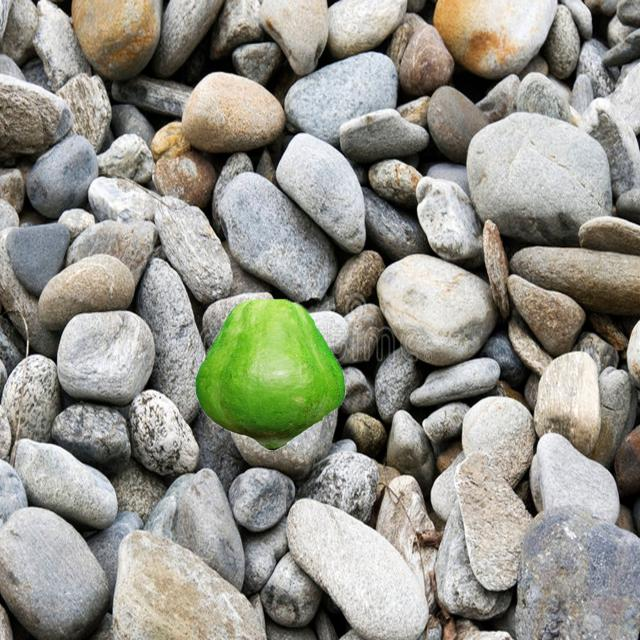Pepaya unrippen: (190, 292, 342, 455)
